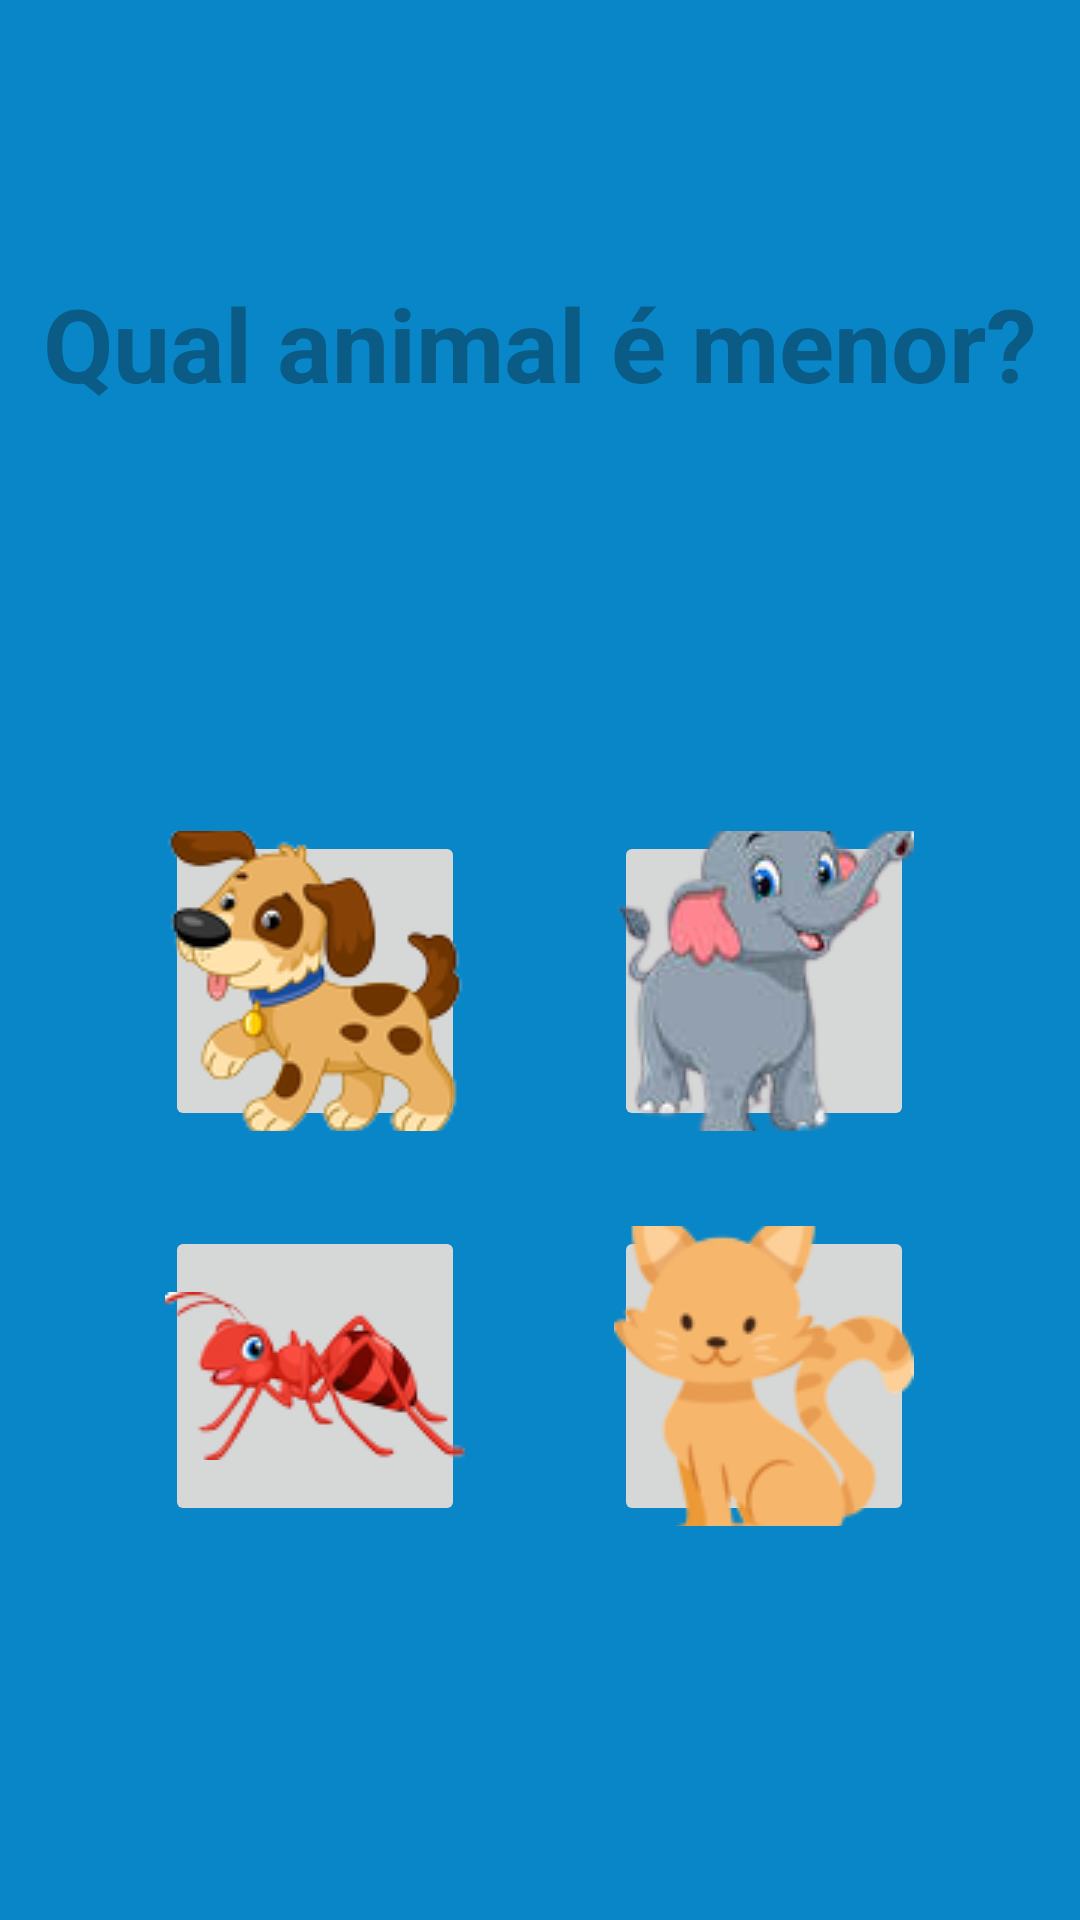

Point at icon controls on the screen. Image size 1080px×1920px, points as [x,y].
cachorro: [315,981]
elefante: [766,981]
formiga: [315,1376]
gato: [764,1376]
